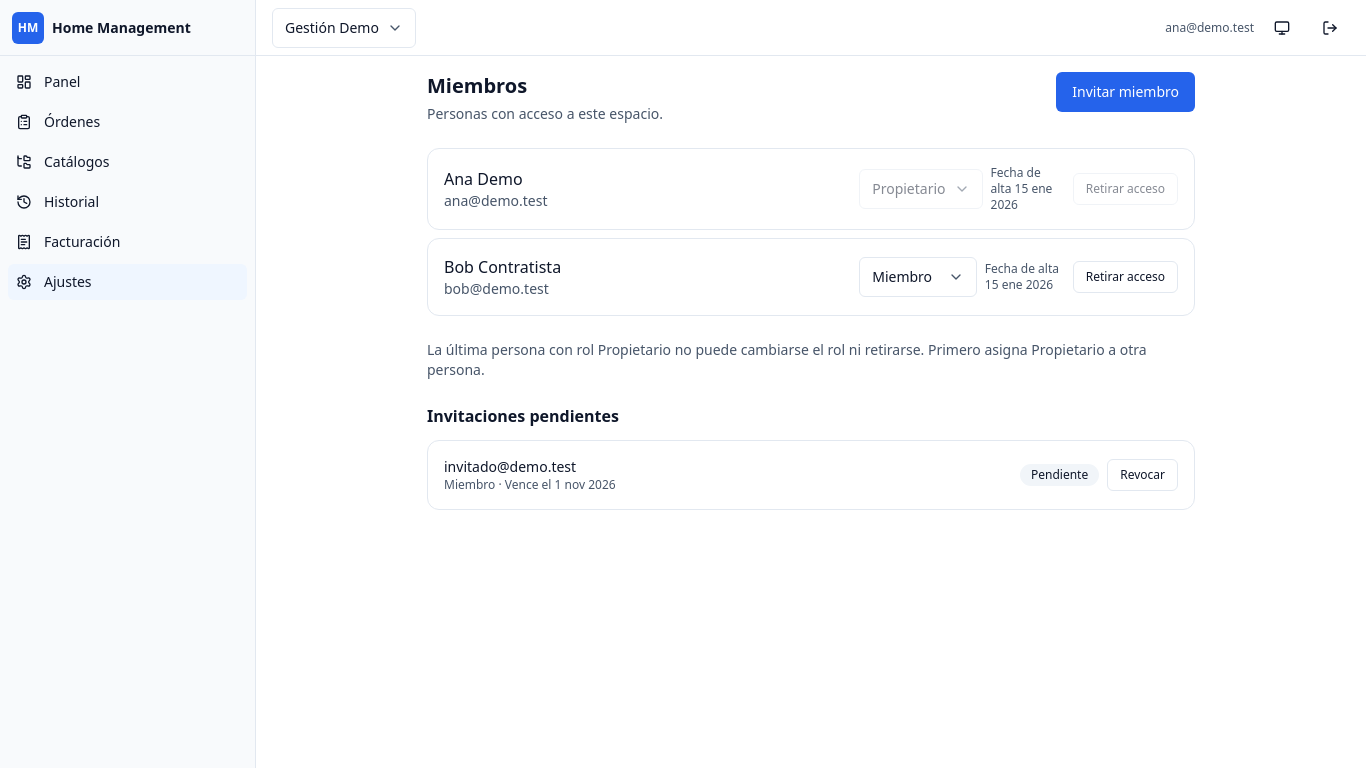
Test: members screen (spec F1 §3, AC-F1.6/AC-F1.9) › invites a member by email with the selected role (F1-D1)
Click the button "Invitar miembro" at (1126, 92), box [1056, 72, 1195, 112]
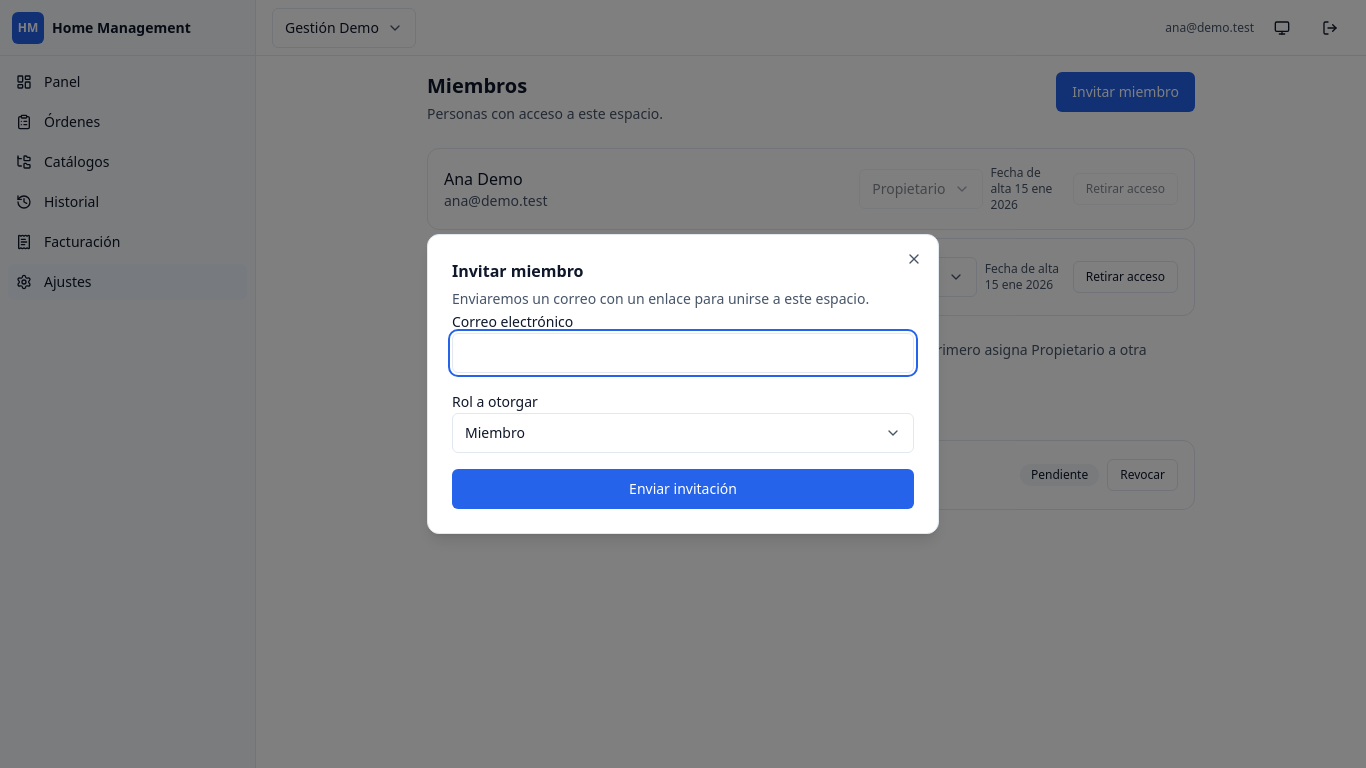
Type "nuevo@demo.test" into the field labelled "Correo electrónico" at (683, 353), box [452, 333, 914, 373]
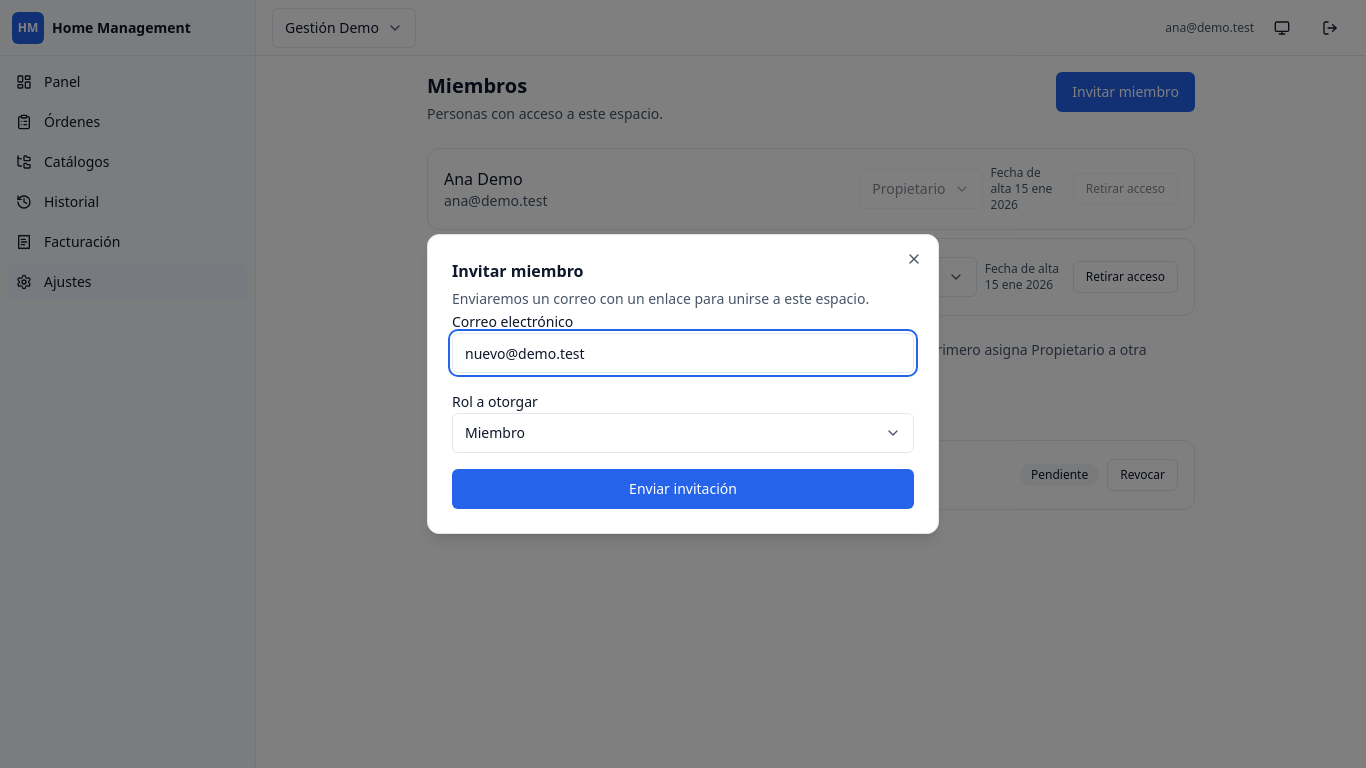
Click the dropdown named "Rol a otorgar" at (495, 432), box [452, 413, 914, 453]
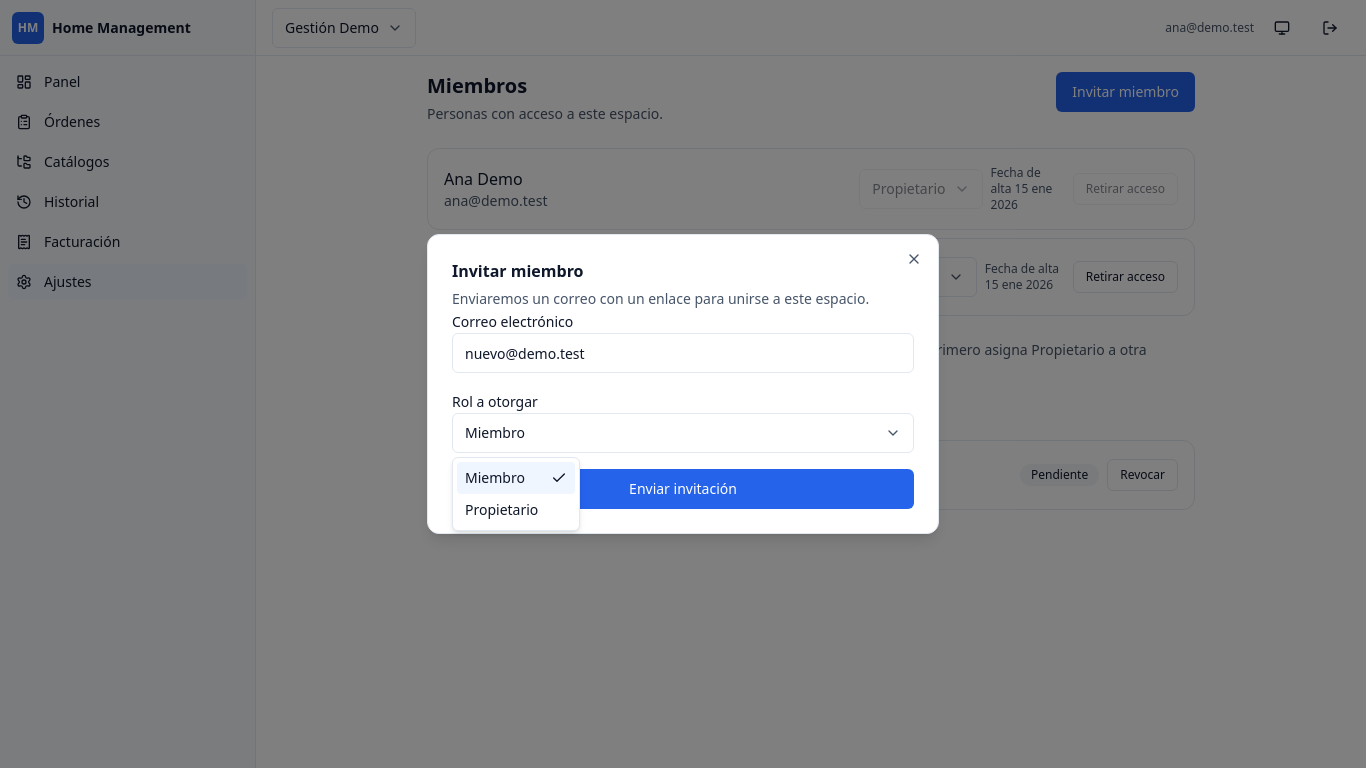
Click the option "Propietario" at (502, 510), box [465, 500, 538, 519]
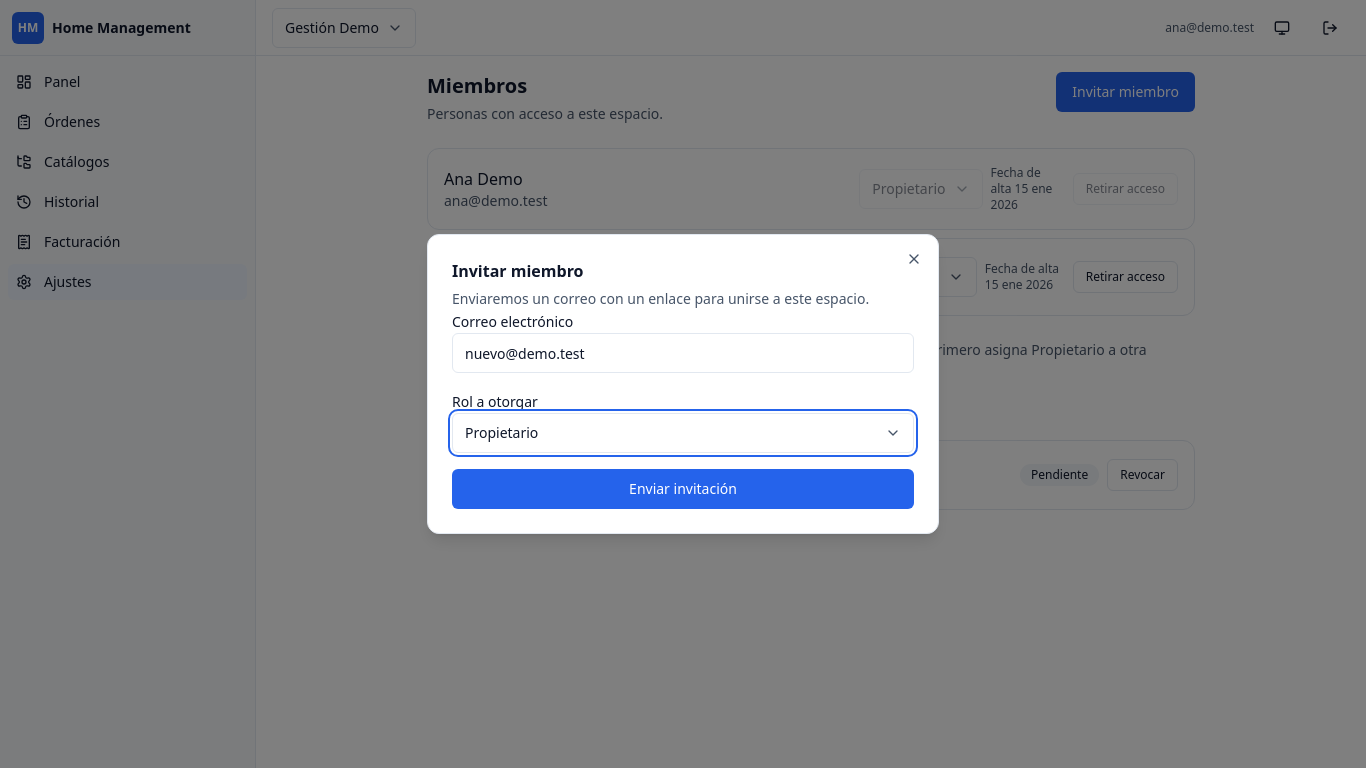
Click the button "Enviar invitación" at (683, 489), box [452, 469, 914, 509]
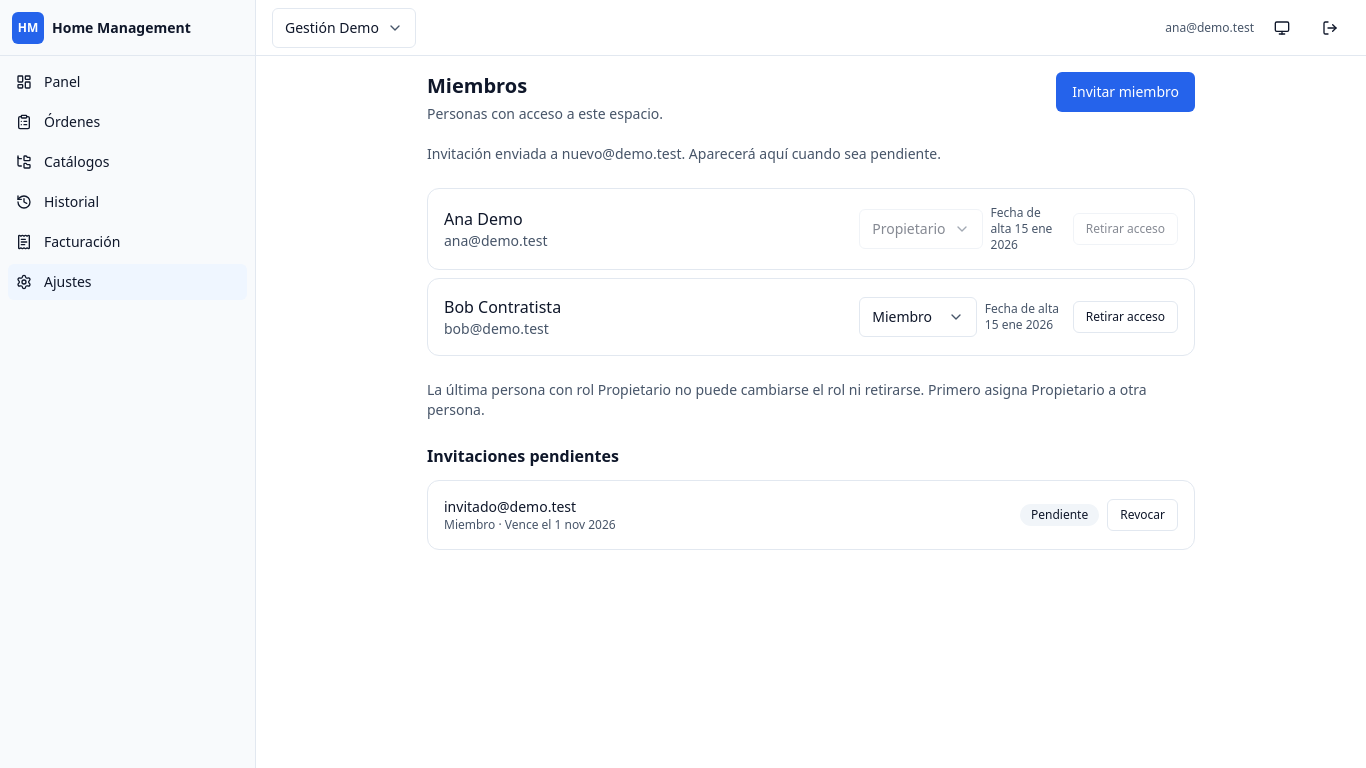
Expected: the text "Invitación enviada a nuevo@demo.test. Aparecerá aquí cuando sea pendiente." is shown, [427, 144, 941, 164]
